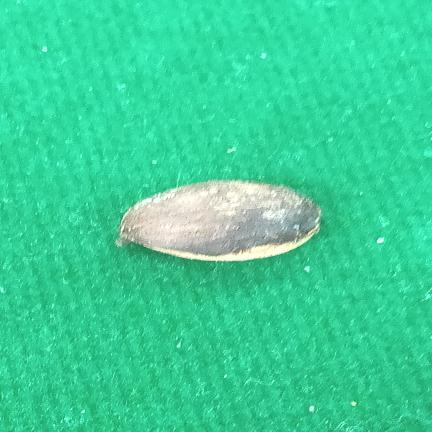full-black: (116, 180, 321, 261)
